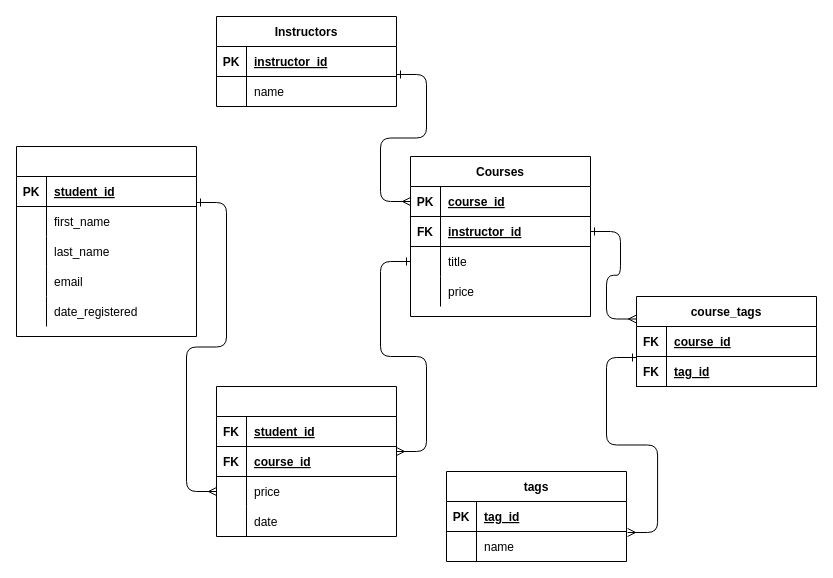
This 833x578 diagram has some shape labels left out. The shapes that lost their labels are listed below. From the top down, each one's box as (x1, y1, x2, y2) in pixels, then its label:
(16, 146, 196, 336): Students
(216, 386, 396, 536): Enrollments
